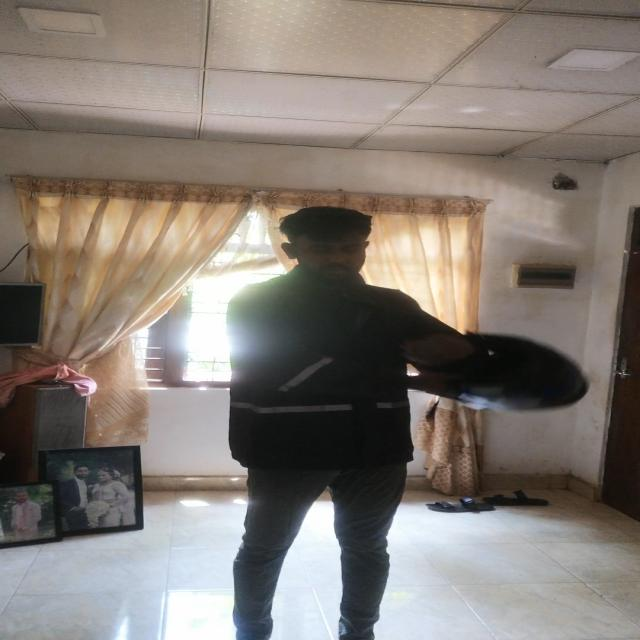Jacket_Wearer: (216, 274, 473, 468)
Person: (218, 202, 476, 640)
